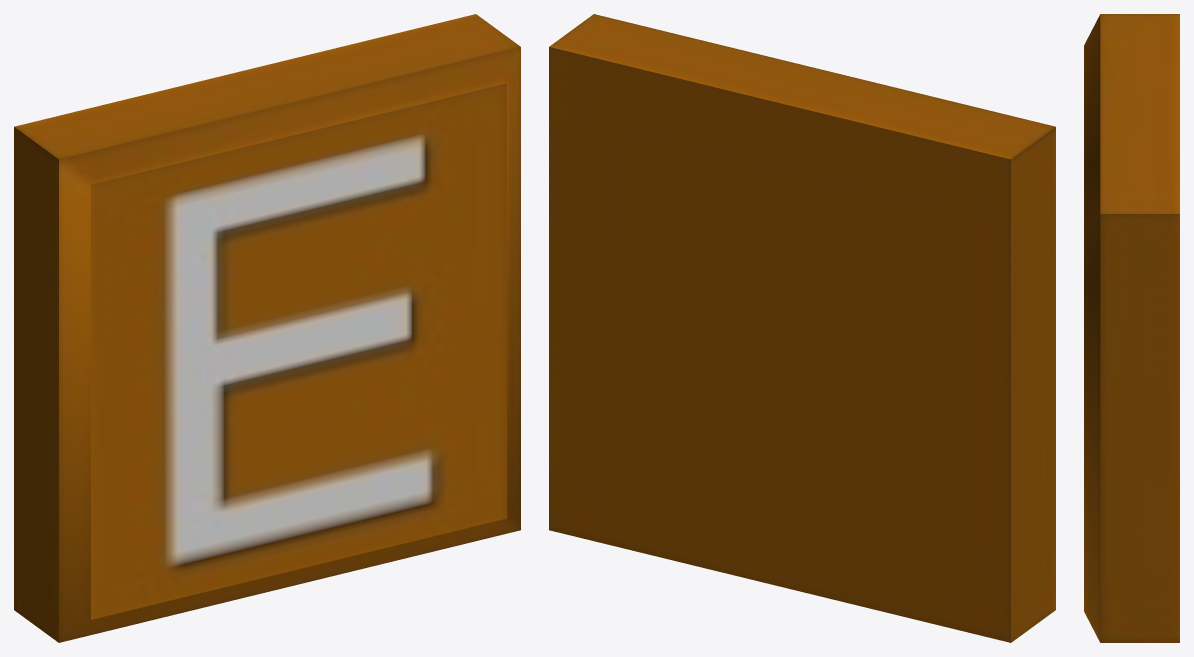
File: exit.obj
The picture shows the model from 3 angles, left to right: view 1: azimuth 30°, elevation 25°; view 2: azimuth 150°, elevation 25°; view 3: azimuth 270°, elevation 25°; orthographic projection. The views are drawn at different scales.
Visible parts, largest first — view 1: Object03; view 2: Object03; view 3: Object03.
Boxes of the visible parts, bbox=[...] form: Object03: bbox=[14, 14, 520, 642]; Object03: bbox=[549, 14, 1055, 642]; Object03: bbox=[1084, 14, 1179, 642].
Bounding box in the file's own units: 20.04 × 20.04 × 4.06.
1 material, 1 textured.
